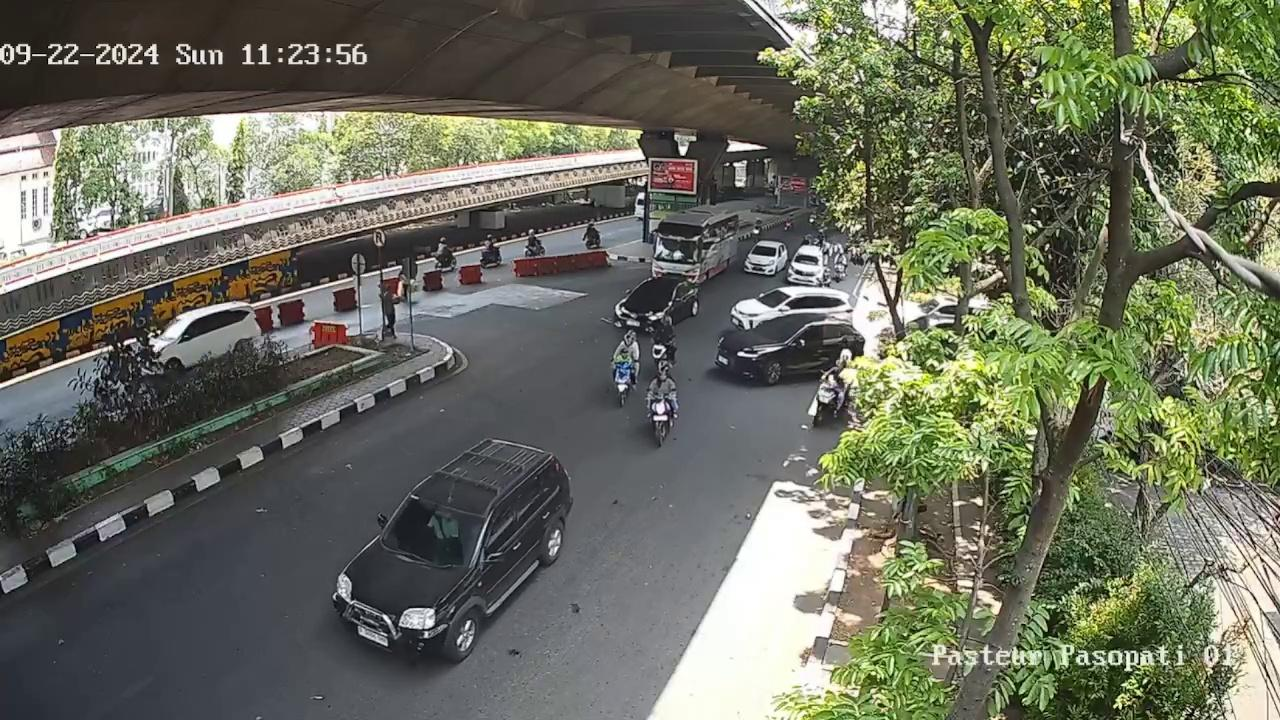pakai: (429, 508, 459, 545)
windshield: (383, 495, 486, 565), (628, 281, 672, 306), (756, 287, 789, 308), (751, 245, 776, 259)
